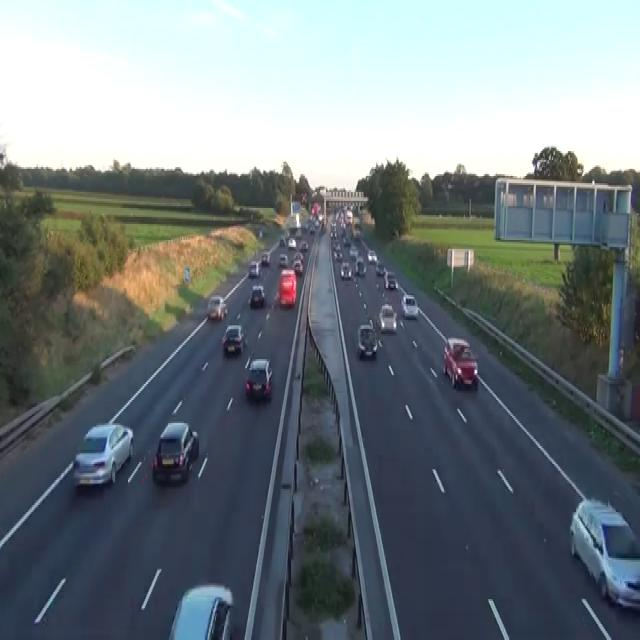Car: (569, 496, 639, 612), (72, 421, 133, 487), (167, 583, 234, 638), (151, 419, 199, 484), (442, 336, 478, 389), (245, 357, 272, 400), (221, 324, 245, 354), (278, 268, 296, 308), (357, 322, 377, 357), (378, 302, 397, 332), (206, 295, 227, 320), (401, 294, 418, 318), (248, 284, 265, 308), (384, 270, 397, 290), (248, 260, 260, 278), (340, 261, 351, 279), (355, 258, 366, 276), (292, 258, 303, 274), (279, 230, 289, 246), (367, 249, 377, 263), (375, 262, 385, 276), (292, 251, 303, 263), (261, 251, 270, 265), (279, 252, 288, 266), (349, 244, 358, 258), (332, 242, 341, 256), (287, 236, 296, 249), (300, 240, 308, 251), (353, 229, 361, 240), (300, 192, 307, 204), (342, 235, 350, 245), (334, 249, 342, 259), (301, 222, 308, 233), (317, 212, 323, 222), (279, 237, 285, 246), (309, 224, 315, 233), (295, 228, 301, 236), (259, 230, 262, 237)
